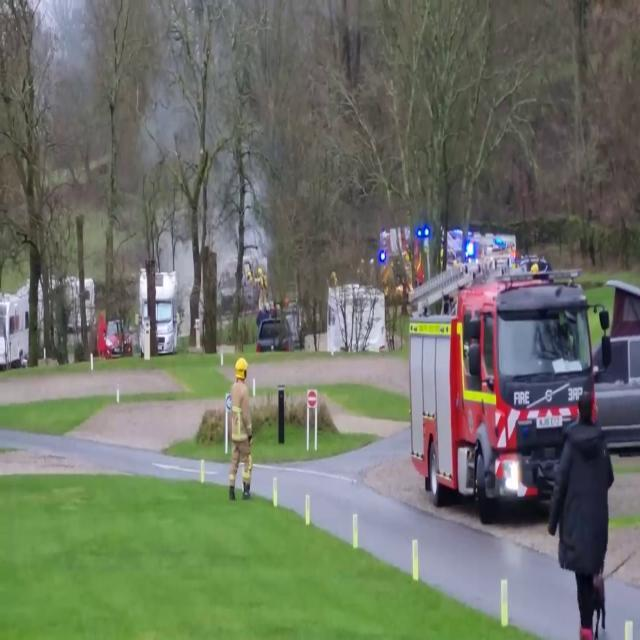Smoke: (48, 2, 274, 304)
